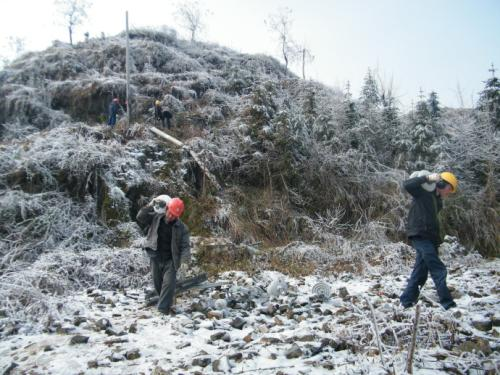boots: (441, 299, 457, 309), (399, 300, 415, 308)
gloves: (179, 262, 190, 274), (427, 172, 440, 181)
hard-hat: (440, 172, 458, 193), (167, 196, 184, 217)
person: (399, 171, 457, 311), (152, 197, 191, 315)
